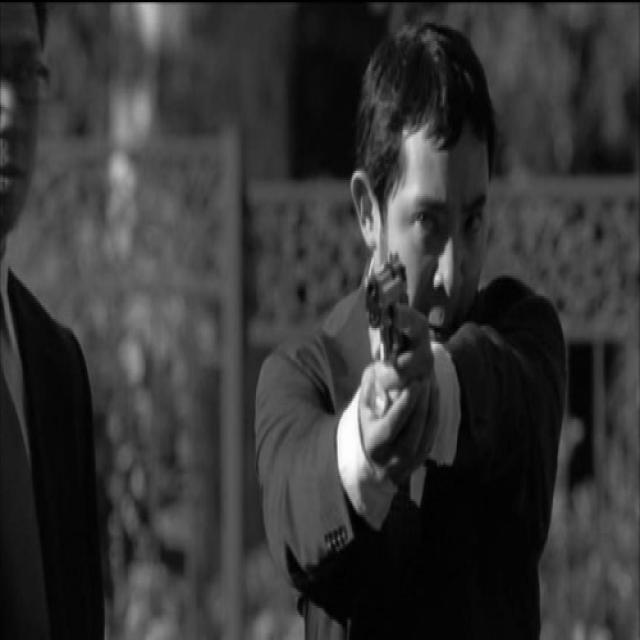weapons: (357, 242, 423, 452)
